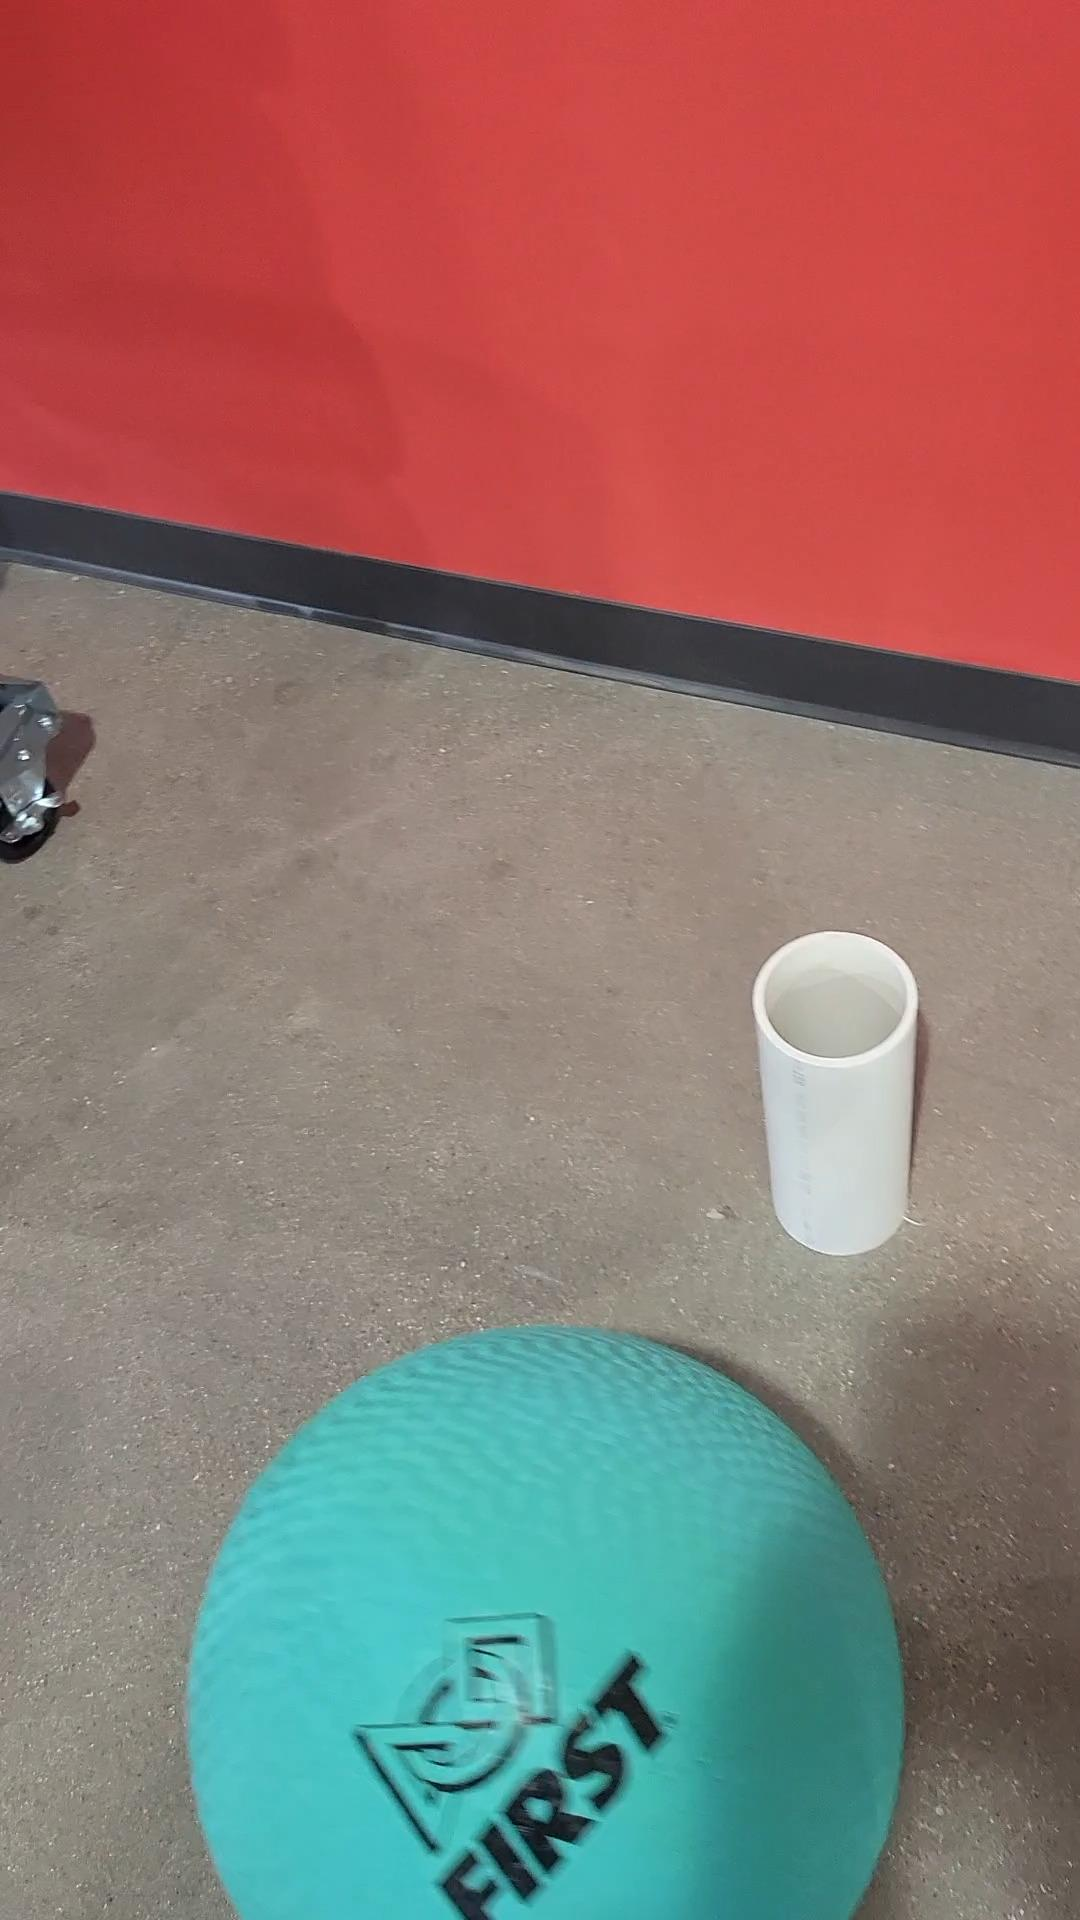algae: (190, 1325, 907, 1920)
coral: (752, 928, 916, 1257)
